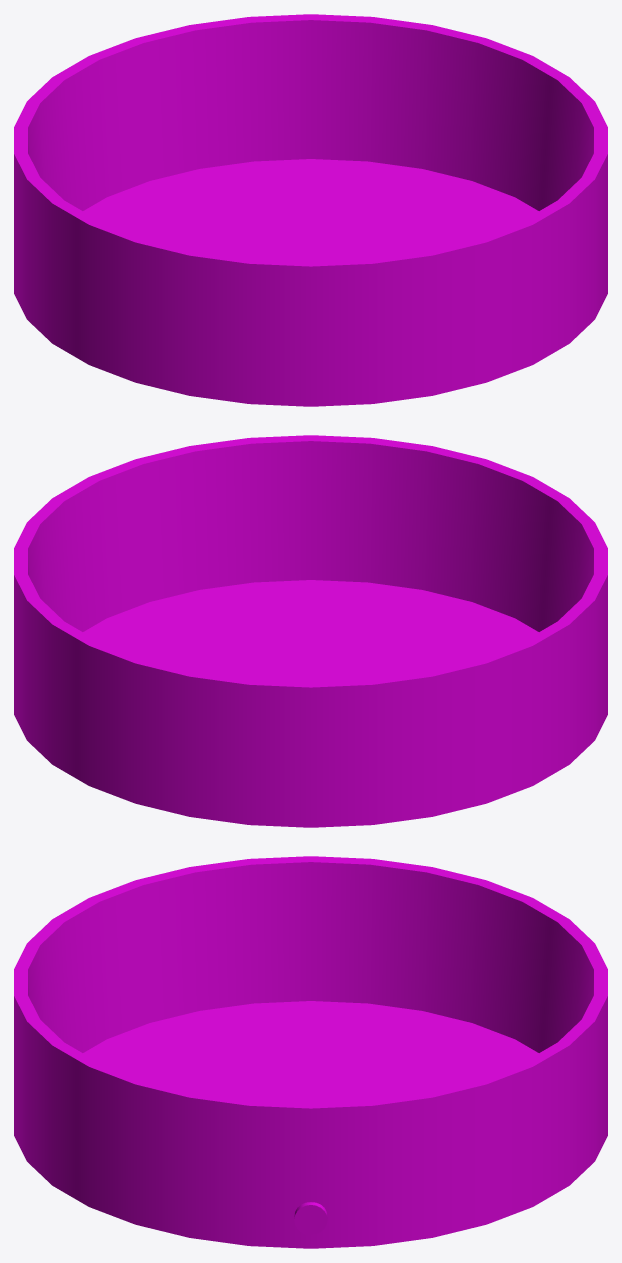
Rendered from pool_low.fbx.
3 views of the same model, one above another, from view 1: azimuth 30°, elevation 25°; view 2: azimuth 150°, elevation 25°; view 3: azimuth 270°, elevation 25° (orthographic).
Visible parts, largest first — view 1: Pool_combined_low; view 2: Pool_combined_low; view 3: Pool_combined_low.
Boxes of the visible parts, x1,y1,x2,y2 form: Pool_combined_low: (14, 14, 607, 406); Pool_combined_low: (14, 435, 607, 827); Pool_combined_low: (14, 856, 607, 1248).
Bounding box in the file's own units: 332 × 84.98 × 326.
